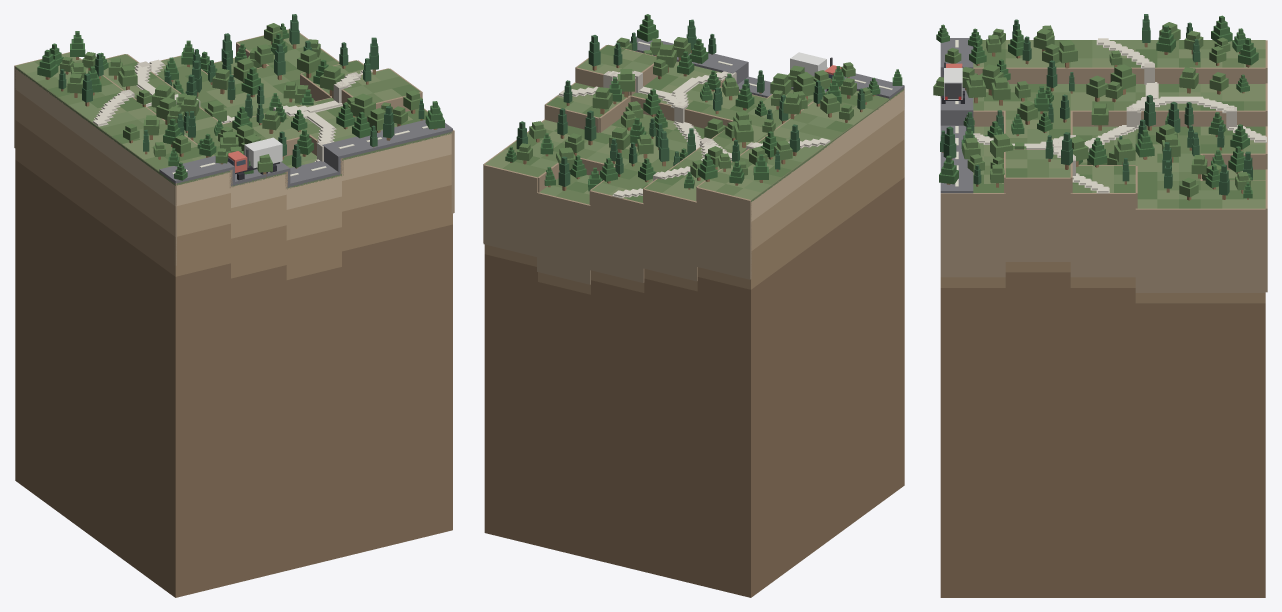
Rendered from block_3_engineered_10.glb.
The picture shows the model from 3 angles, left to right: view 1: azimuth 30°, elevation 25°; view 2: azimuth 150°, elevation 25°; view 3: azimuth 270°, elevation 25°; orthographic projection. The views are drawn at different scales.
Visible parts, largest first — view 1: Patch_UpperLeft_b08_ES, Ghats_UpperLeft_b08_ES, Roads_UpperLeft_b08_ES, ULCar_002_ES; view 2: Patch_UpperLeft_b08_ES, Ghats_UpperLeft_b08_ES, Roads_UpperLeft_b08_ES, ULCar_002_ES; view 3: Patch_UpperLeft_b08_ES, Ghats_UpperLeft_b08_ES, Roads_UpperLeft_b08_ES, ULCar_002_ES, ULG_T242_ES.
Part boxes in pixels (left/top/right/bottom): Patch_UpperLeft_b08_ES: left=15, top=69, right=452, bottom=597; Ghats_UpperLeft_b08_ES: left=14, top=29, right=454, bottom=265; Roads_UpperLeft_b08_ES: left=159, top=120, right=452, bottom=188; ULCar_002_ES: left=227, top=137, right=282, bottom=180; Patch_UpperLeft_b08_ES: left=484, top=90, right=904, bottom=597; Ghats_UpperLeft_b08_ES: left=483, top=44, right=904, bottom=284; Roads_UpperLeft_b08_ES: left=629, top=36, right=904, bottom=99; ULCar_002_ES: left=790, top=52, right=841, bottom=90; Patch_UpperLeft_b08_ES: left=940, top=262, right=1265, bottom=597; Ghats_UpperLeft_b08_ES: left=940, top=38, right=1267, bottom=292; Roads_UpperLeft_b08_ES: left=940, top=38, right=973, bottom=193; ULCar_002_ES: left=941, top=62, right=964, bottom=103; ULG_T242_ES: left=1110, top=64, right=1135, bottom=94.
Size of the model in its own units: 9.55 by 14.72 by 9.76.
